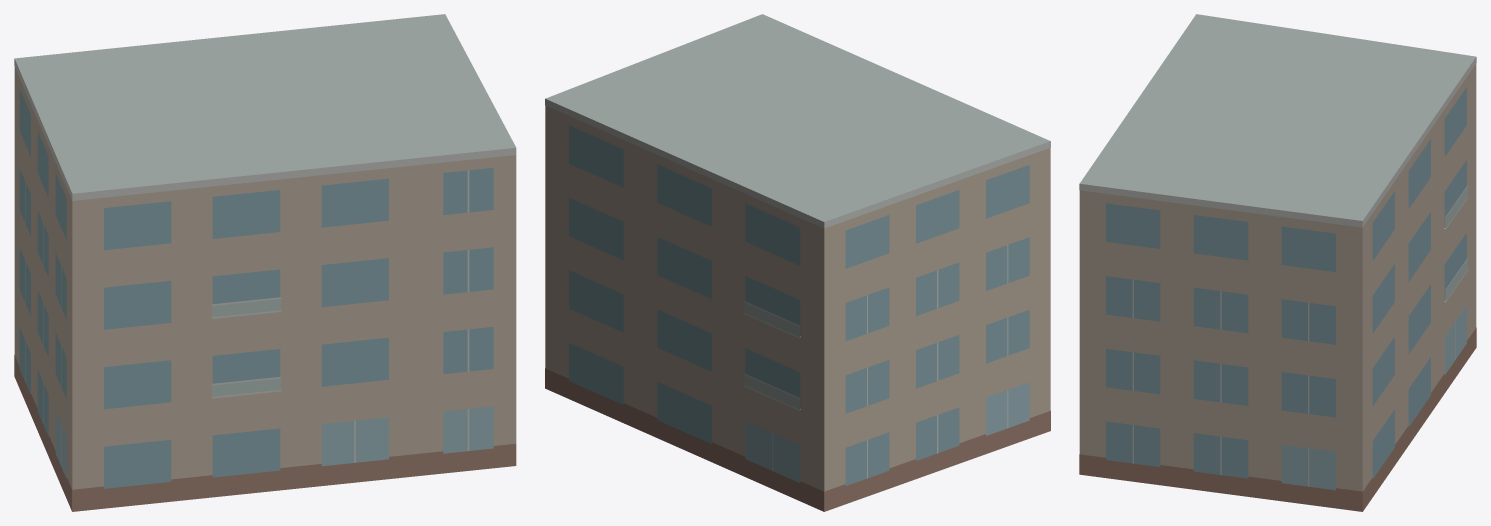
File: survey-upis-32978160.glb
The picture shows the model from 3 angles, left to right: view 1: azimuth 30°, elevation 25°; view 2: azimuth 150°, elevation 25°; view 3: azimuth 270°, elevation 25°; orthographic projection. The views are drawn at different scales.
Visible parts, largest first — view 1: survey-upis-32978160.tmp; view 2: survey-upis-32978160.tmp; view 3: survey-upis-32978160.tmp.
Boxes of the visible parts, box(x1,y1,x2,y2) form: survey-upis-32978160.tmp: box(14, 14, 516, 511); survey-upis-32978160.tmp: box(545, 14, 1050, 511); survey-upis-32978160.tmp: box(1079, 14, 1476, 511).
Bounding box in the file's own units: 16.54 × 10.83 × 13.41.
